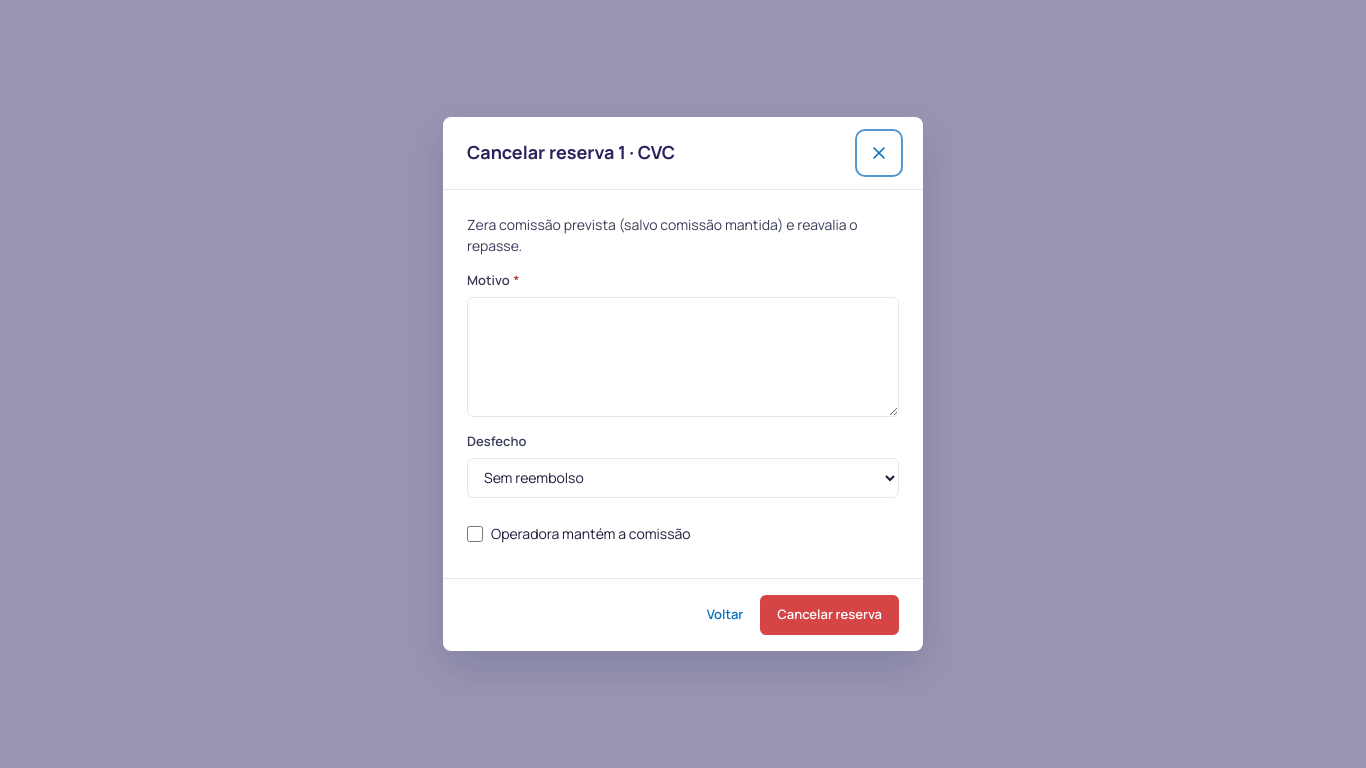
Test: submit sem motivo mostra erro de campo (validação local)
Click the button "Cancelar reserva" at (830, 615), box [760, 595, 899, 635]
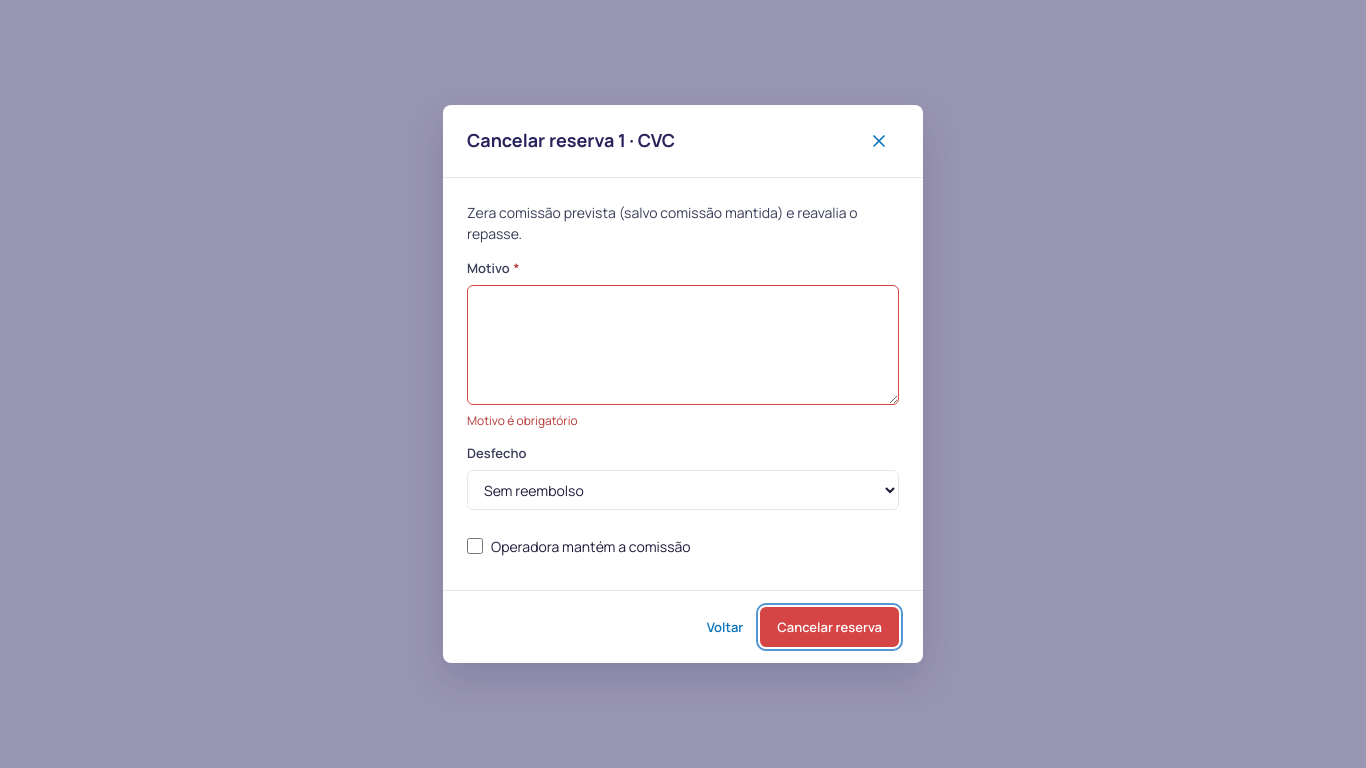
Now the text "Motivo é obrigatório" is shown, box [467, 412, 578, 429]
